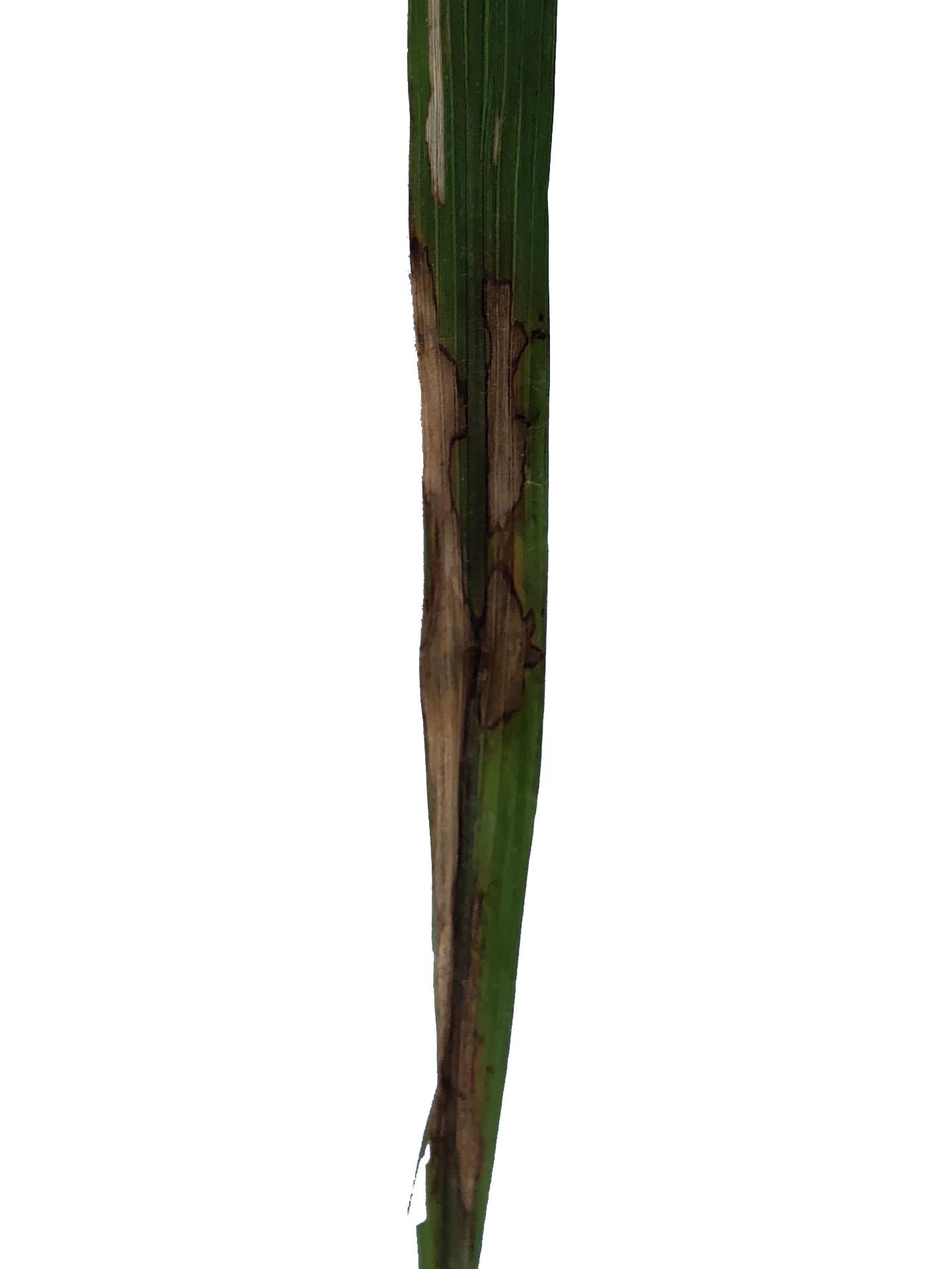Blight: (420, 225, 466, 1150), (469, 248, 539, 760)
